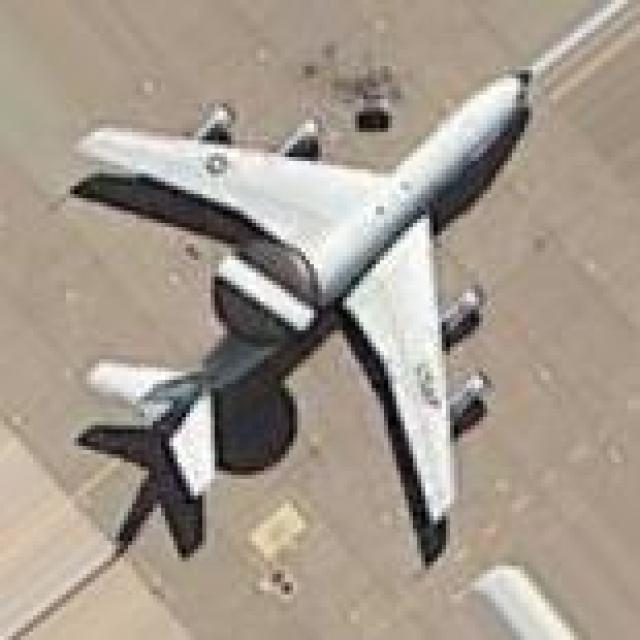E-3_TopDown: (65, 64, 543, 561)
